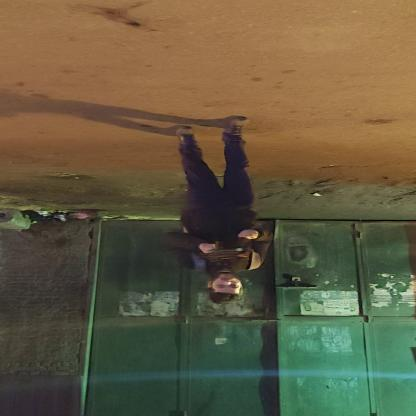long weapon: (190, 238, 251, 265)
